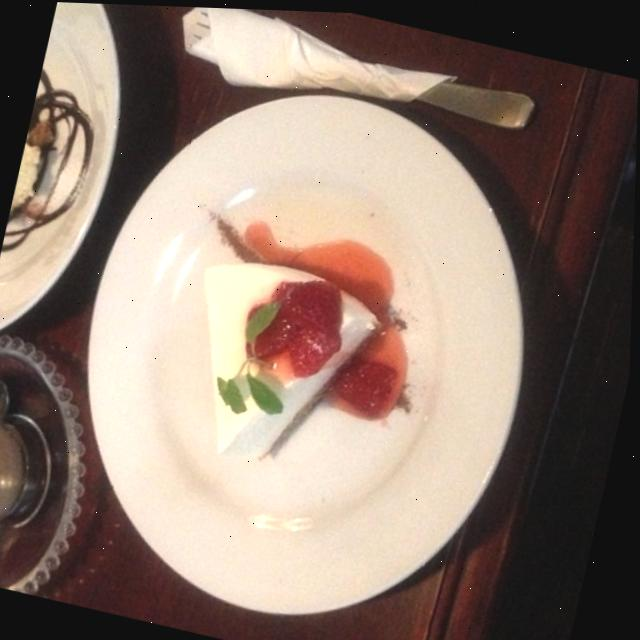蛋糕甜品: (25, 69, 548, 627)
